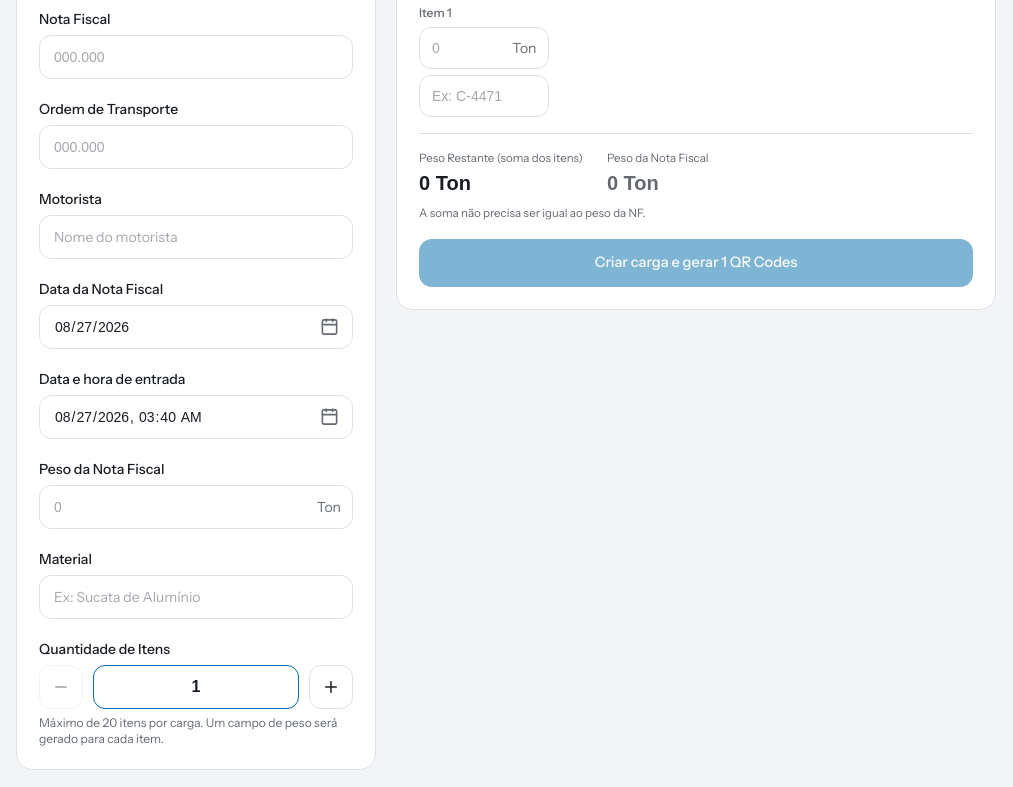
NewLoadForm › generates one weight field per item when the stepper count changes
(page scrolled)
Click the button named "Aumentar quantidade de itens" at (331, 687), box [309,665,353,709]
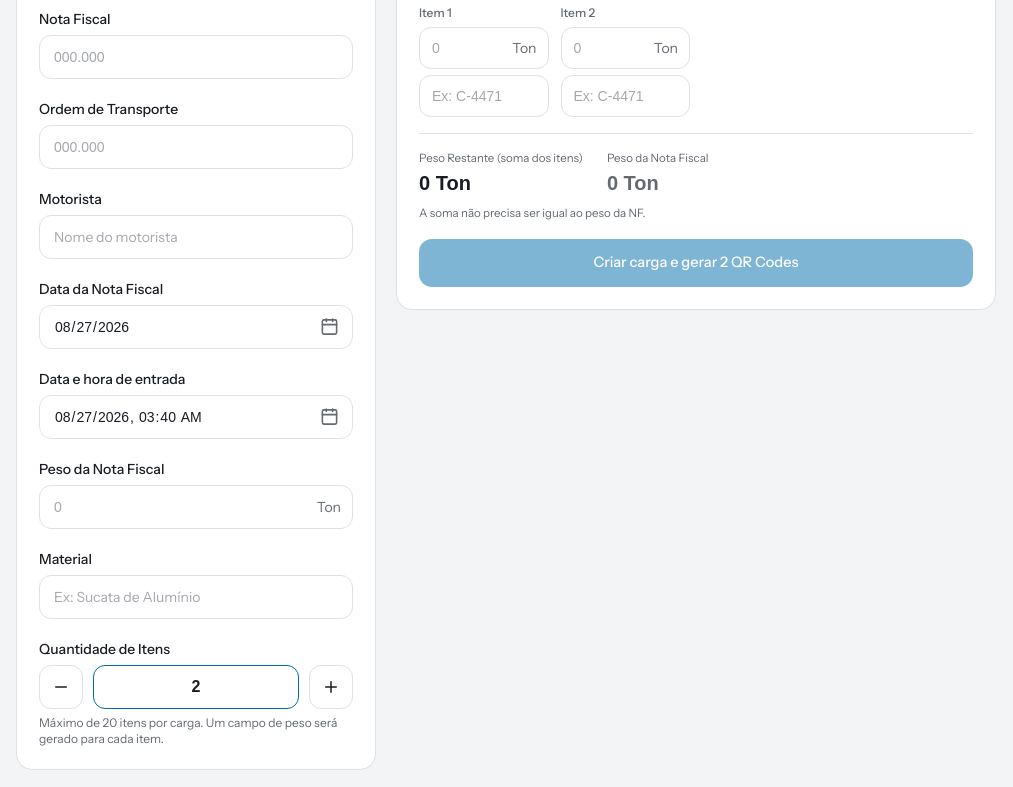
Click the button named "Aumentar quantidade de itens" at (331, 687), box [309,665,353,709]
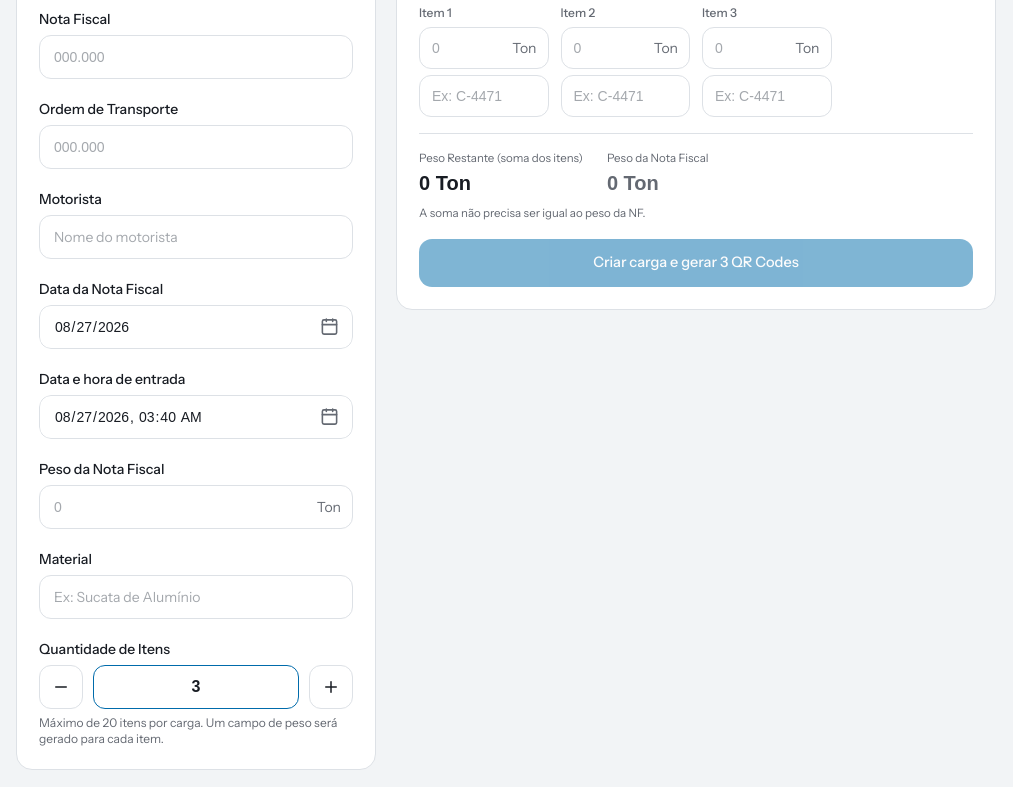
Click the button named "Aumentar quantidade de itens" at (331, 687), box [309,665,353,709]
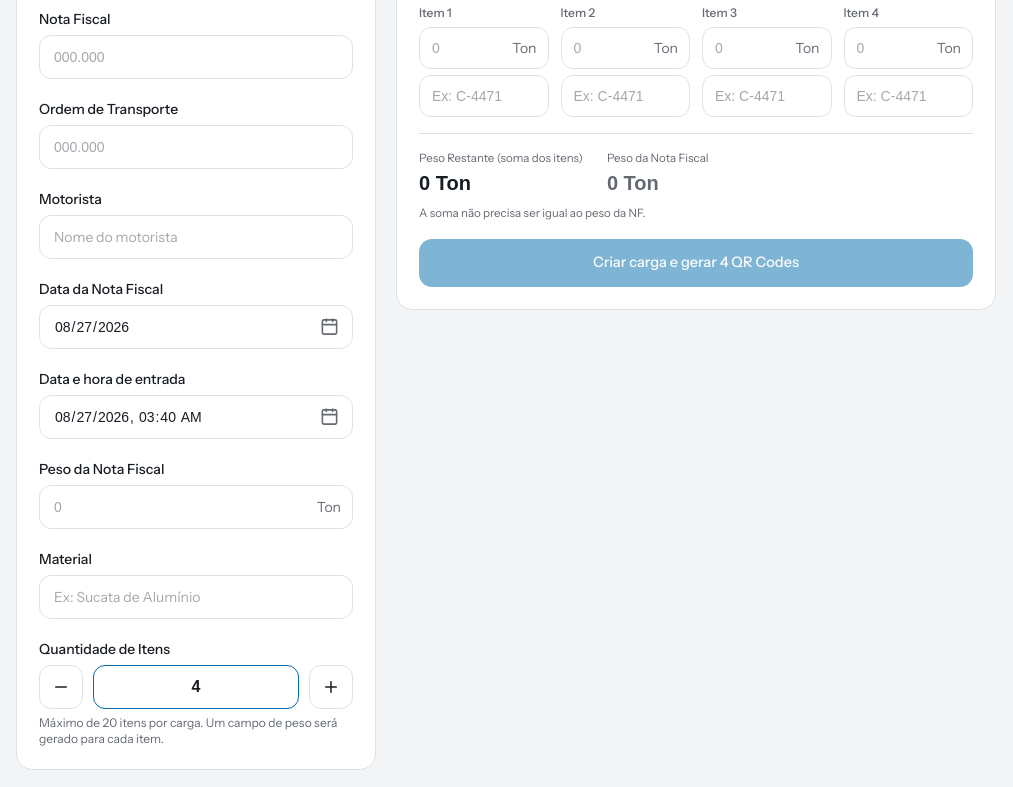
Expected: the number of number fields labelled "0" is 4, [419,27,548,69]; [560,27,690,69]; [702,27,832,69]; [844,27,973,69]
